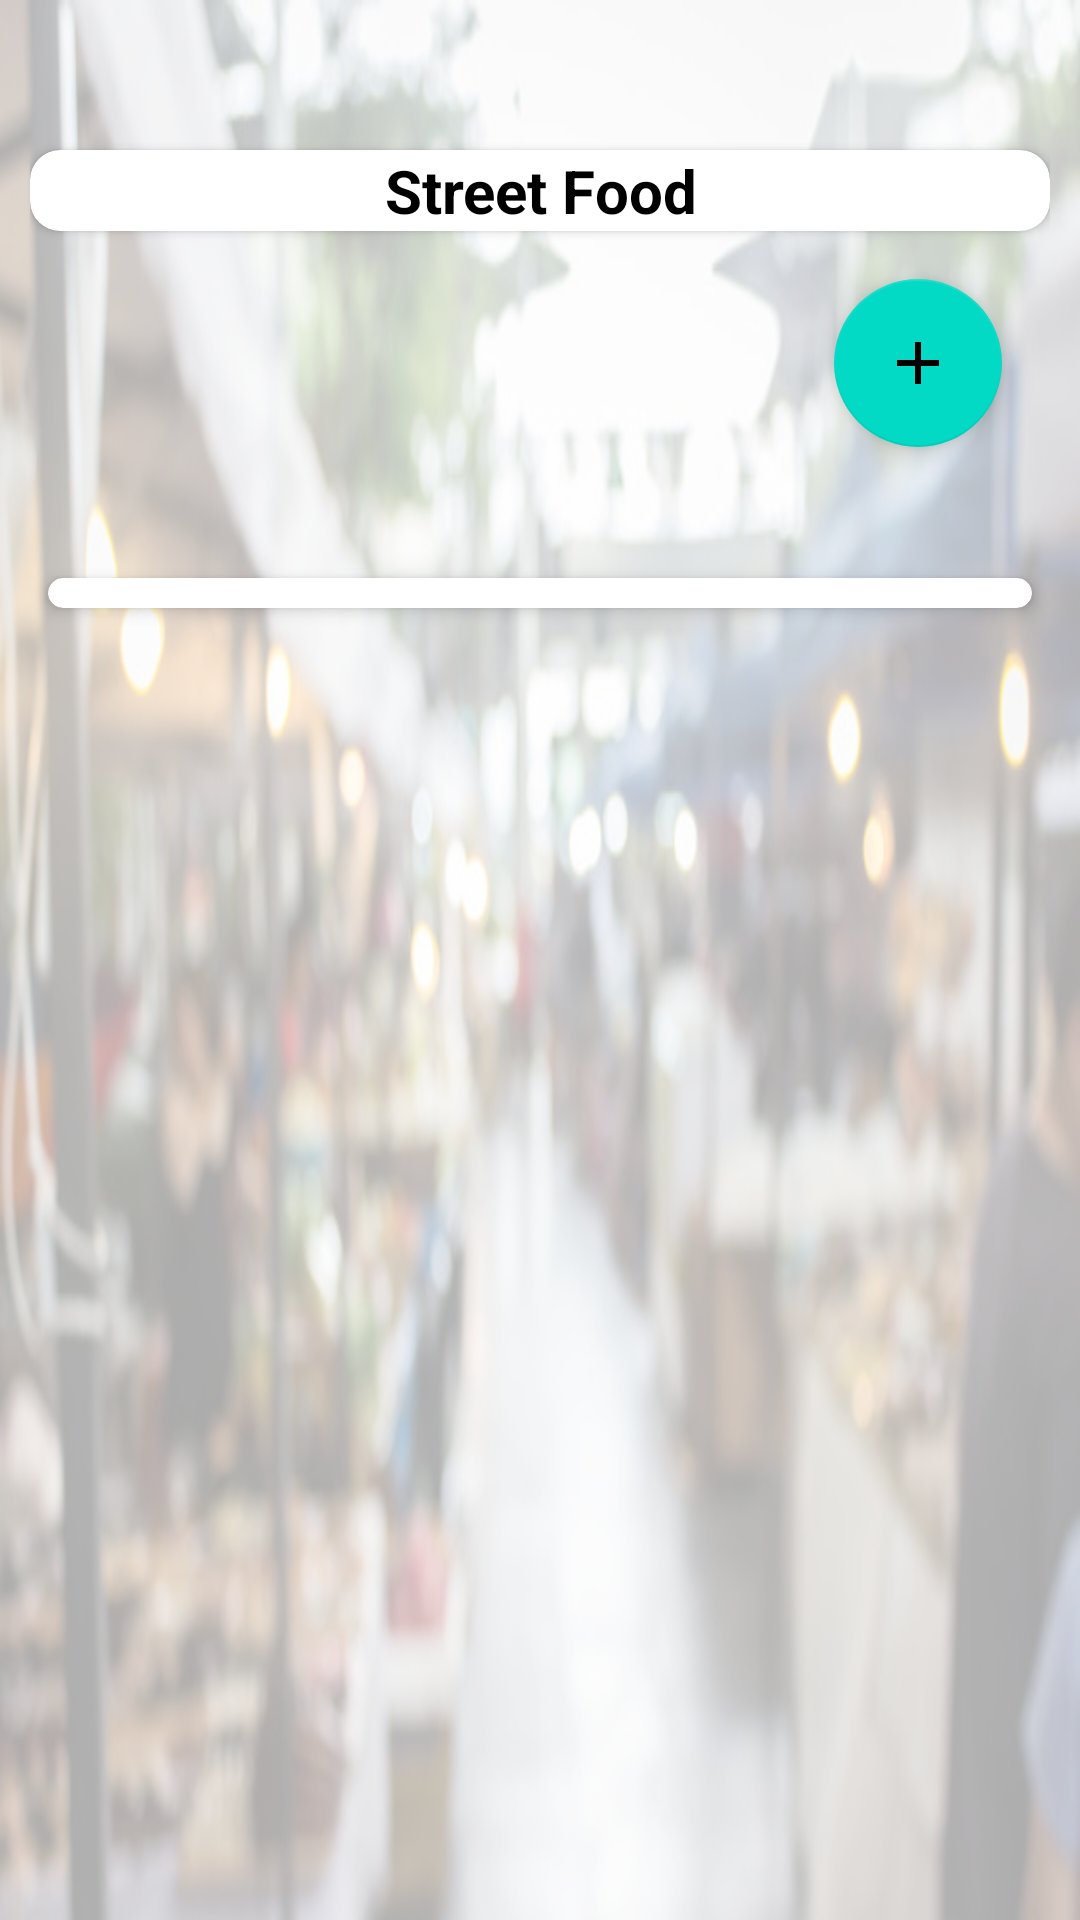

Screen size 1080 x 1920. Icon name, then its center in pixels as [x,y]:
add restaurant: [918,363]
